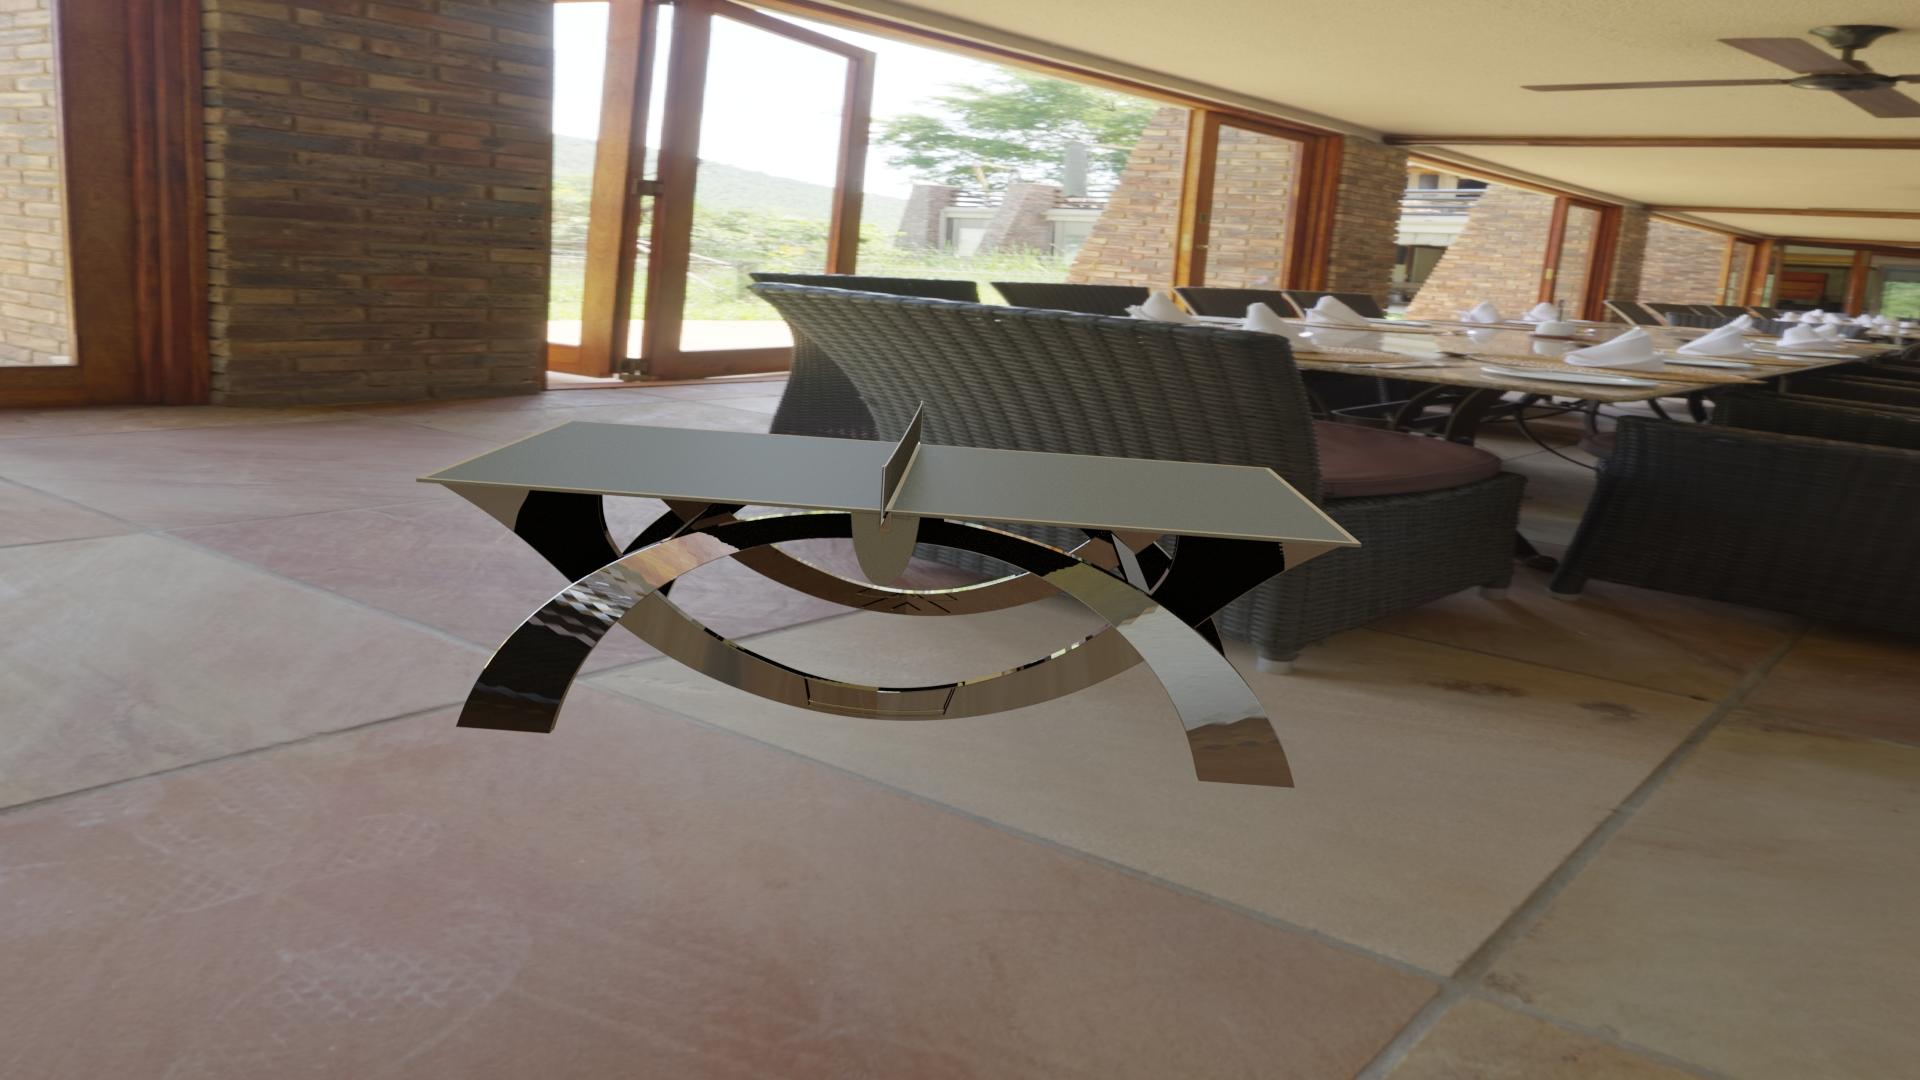table: (426, 421, 1353, 542)
